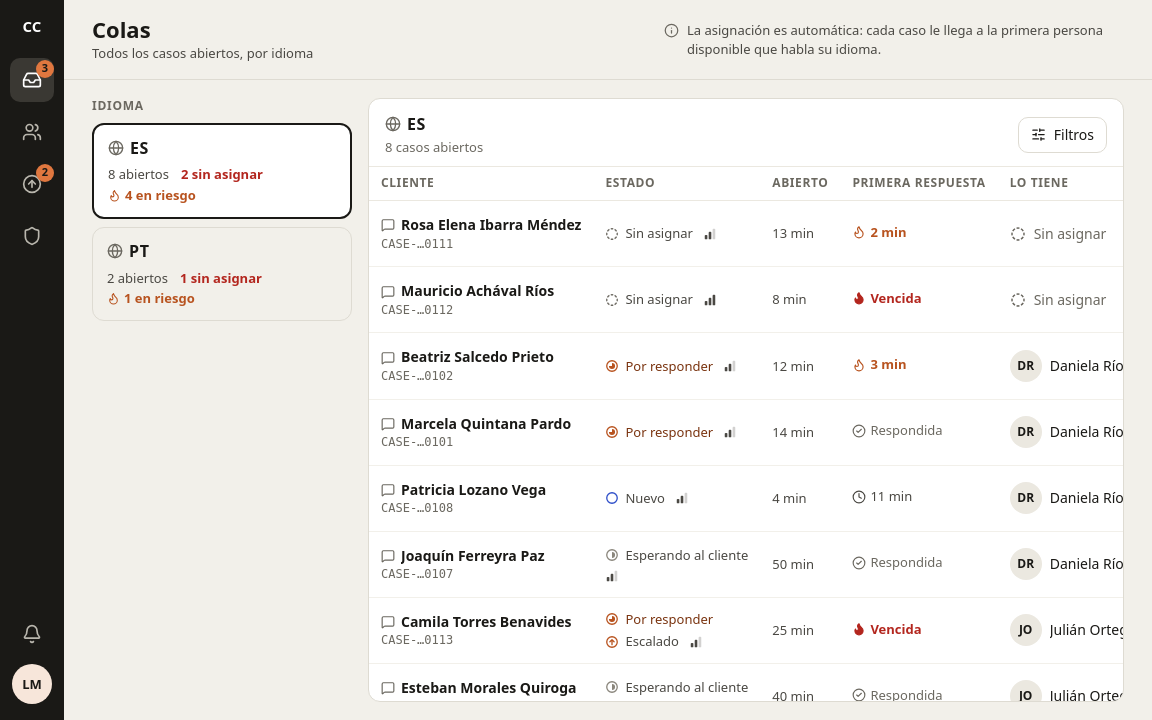
Test: queues screen ("Colas") › shows each queue with its figures and switches language in the URL
Check: the 2nd icon with class "lucide-globe" is shown, box x1=108 y1=140 x2=124 y2=156
Check: the text "2 sin asignar" is shown, box x1=181 y1=165 x2=263 y2=184
Click the button named "Cola en portugués".
click(222, 274)  # box x1=92 y1=227 x2=352 y2=321
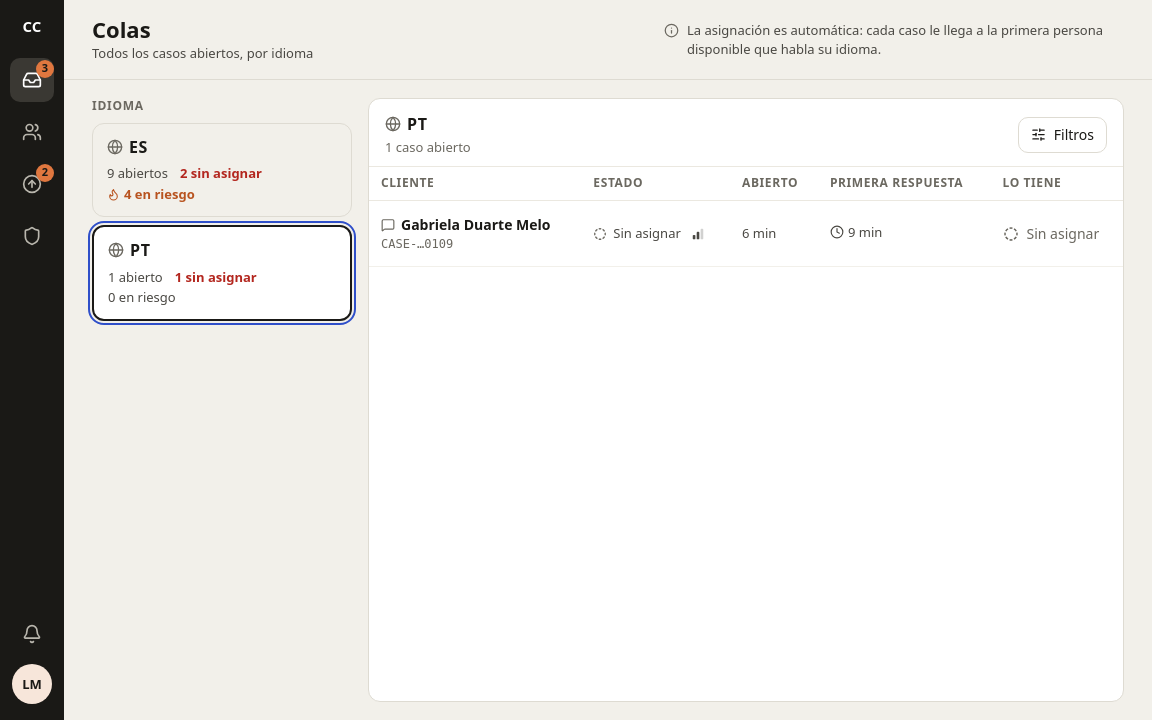
Check: the 1st icon with class "lucide-globe" is shown, box x1=385 y1=116 x2=401 y2=132
Check: the link "Gabriela Duarte Melo" is shown, box x1=401 y1=215 x2=550 y2=236
